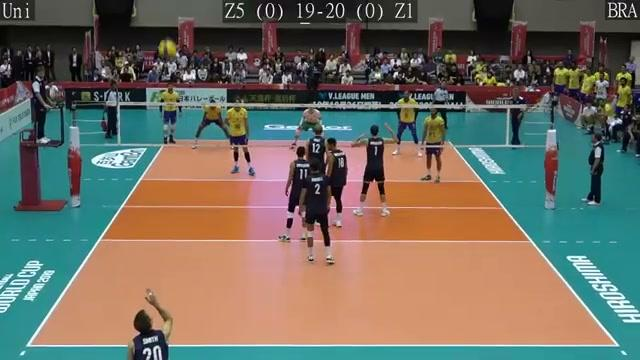ball: (154, 37, 181, 61)
